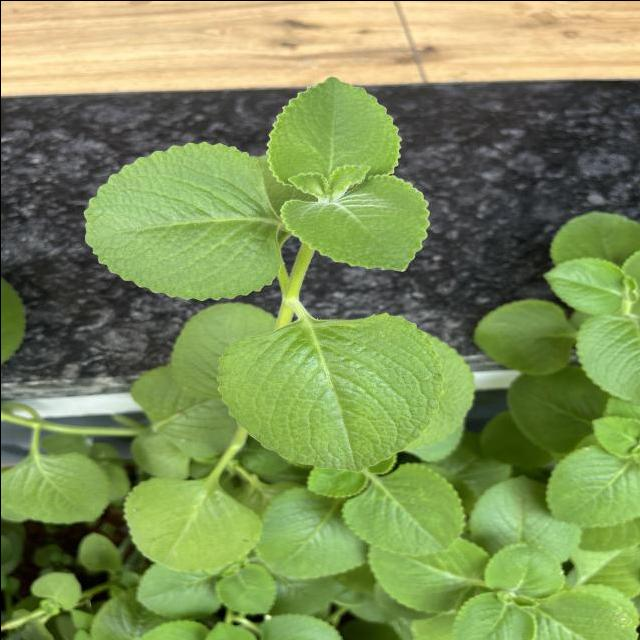Plectranthus barbatus: (214, 310, 443, 472), (82, 139, 286, 302), (263, 74, 404, 189), (278, 171, 432, 273), (122, 474, 264, 574), (340, 460, 466, 558), (255, 484, 367, 579), (366, 534, 490, 613), (466, 472, 581, 552), (469, 296, 574, 376), (2, 448, 111, 524), (543, 442, 640, 527), (540, 256, 627, 314), (480, 540, 566, 596)
